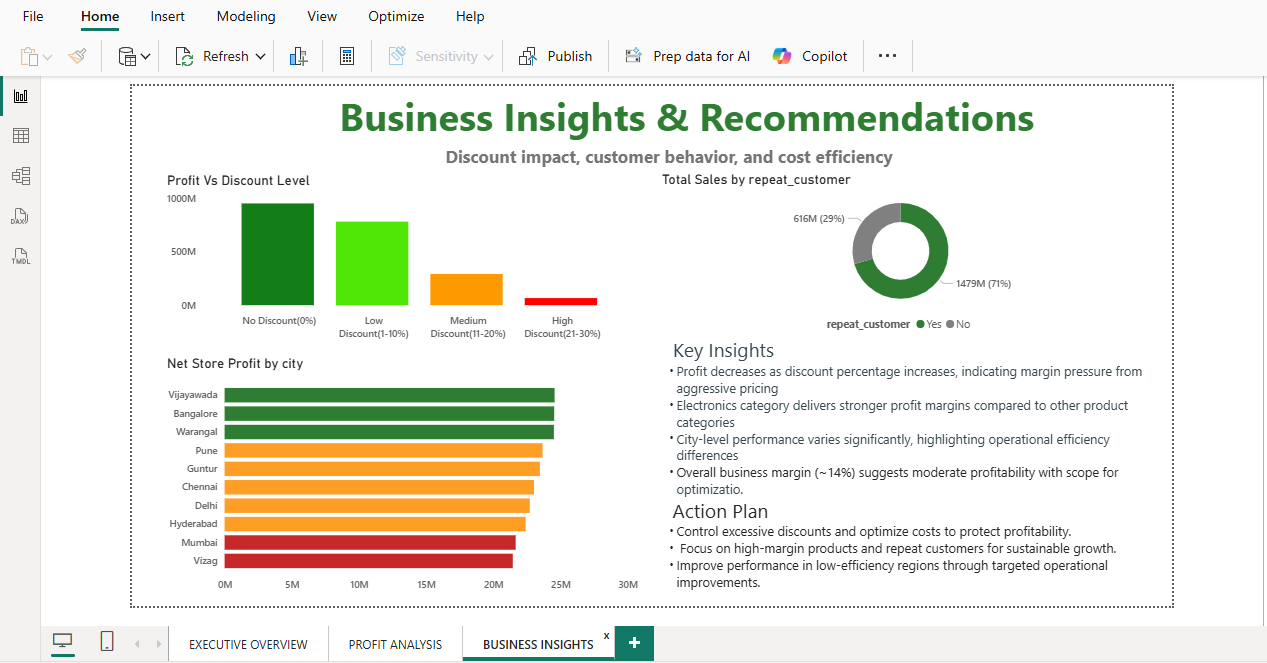

Layout of this report page (visuals, bound fields, positions):
{"tool":"powerbi","page":{"name":"BUSINESS INSIGHTS","canvas":[1300,650],"ordinal":2},"visuals":[{"type":"textbox","title":"Business Insights & Recommendations","box":[241.2,3.8,905,70],"z":0},{"type":"textbox","title":"Discount impact, customer behavior, and cost efficiency","box":[362.5,73.8,617.5,32.5],"z":1000},{"type":"donutChart","fields":{"Category":["customers.repeat_customer"],"Y":["orders.Total Sales"]},"box":[657.5,106.2,606.2,210],"z":2000},{"type":"barChart","fields":{"Y":["orders.Net Store Profit"],"Category":["customers.city"]},"box":[38.8,336.2,598.8,305],"z":3000},{"type":"textbox","box":[657.5,305,622.5,336.2],"z":4000},{"type":"columnChart","title":"Profit Vs Discount Level","fields":{"Y":["orders.Total Sales"],"Category":["orders.Discount Sort Order"]},"box":[38.8,107.5,598.8,217.5],"z":5000}]}

Visuals, with their boxes on the page's 1300x650 design canvas (x1, y1, x2, y2). These are canvas units, not pixel positions in the 1267x663 screenshot, which may show the page scaled, cropped or inside an application window:
"Business Insights & Recommendations" textbox: (241,4,1146,74)
"Discount impact, customer behavior, and cost efficiency" textbox: (362,74,980,106)
donutChart - customers.repeat_customer x orders.Total Sales: (658,106,1264,316)
barChart - orders.Net Store Profit x customers.city: (39,336,638,641)
textbox: (658,305,1280,641)
"Profit Vs Discount Level" columnChart: (39,108,638,325)
